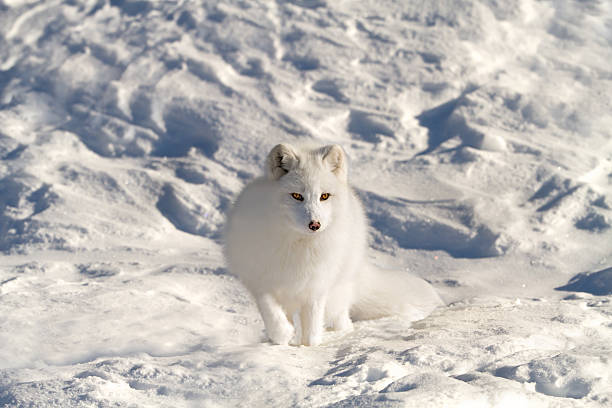arcticfox: (276, 168, 337, 241)
